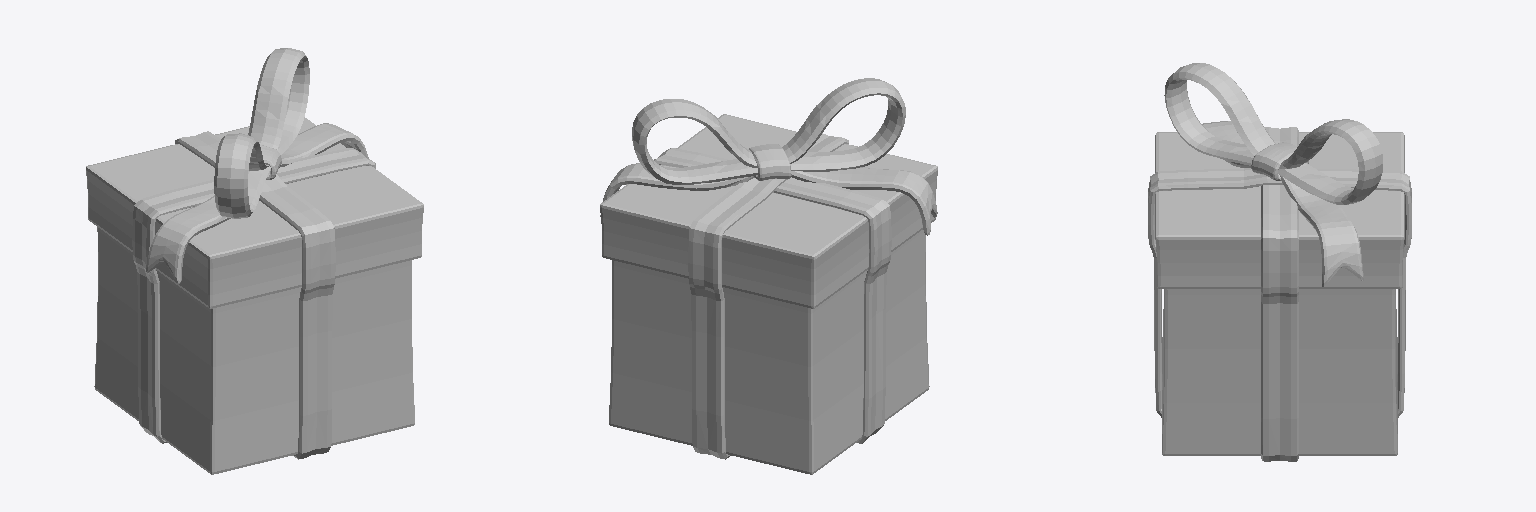
Rendered from present.obj.
3 views of the same model, side by side, from view 1: azimuth 30°, elevation 25°; view 2: azimuth 150°, elevation 25°; view 3: azimuth 270°, elevation 25° (orthographic).
Parts seen in each view (by area): view 1: NurbsPath.006_NurbsPath.005; view 2: NurbsPath.006_NurbsPath.005; view 3: NurbsPath.006_NurbsPath.005.
Boxes of the visible parts, box(x1,y1,x2,y2) form: NurbsPath.006_NurbsPath.005: box(86, 48, 423, 474); NurbsPath.006_NurbsPath.005: box(600, 78, 937, 474); NurbsPath.006_NurbsPath.005: box(1148, 63, 1411, 461).
Size of the model in its own units: 2.66 by 3.05 by 2.24.